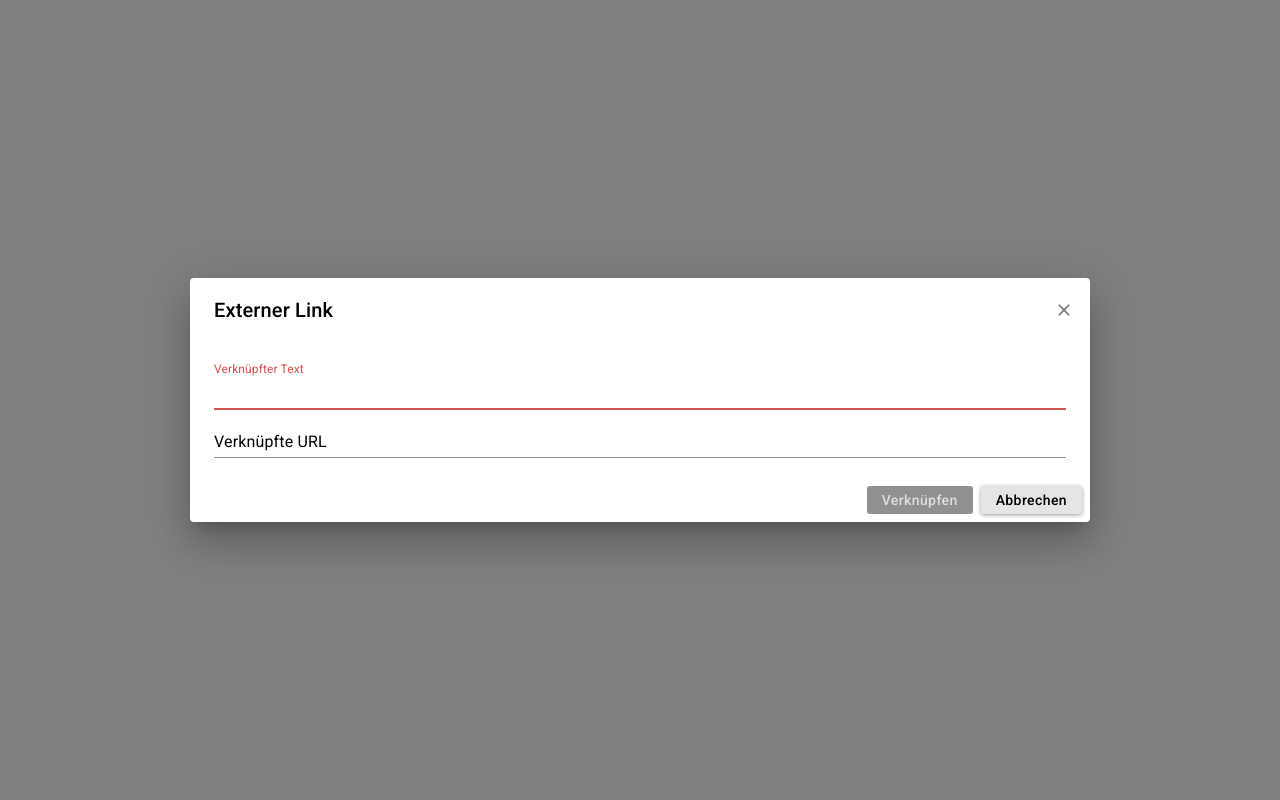
Scenario: ExternerLinkDialog › in edit mode › enables save button on filled out text fields
Type "Some text" into the field labelled "Verknüpfter Text". click: x=640, y=394
box: [214,378,1066,410]
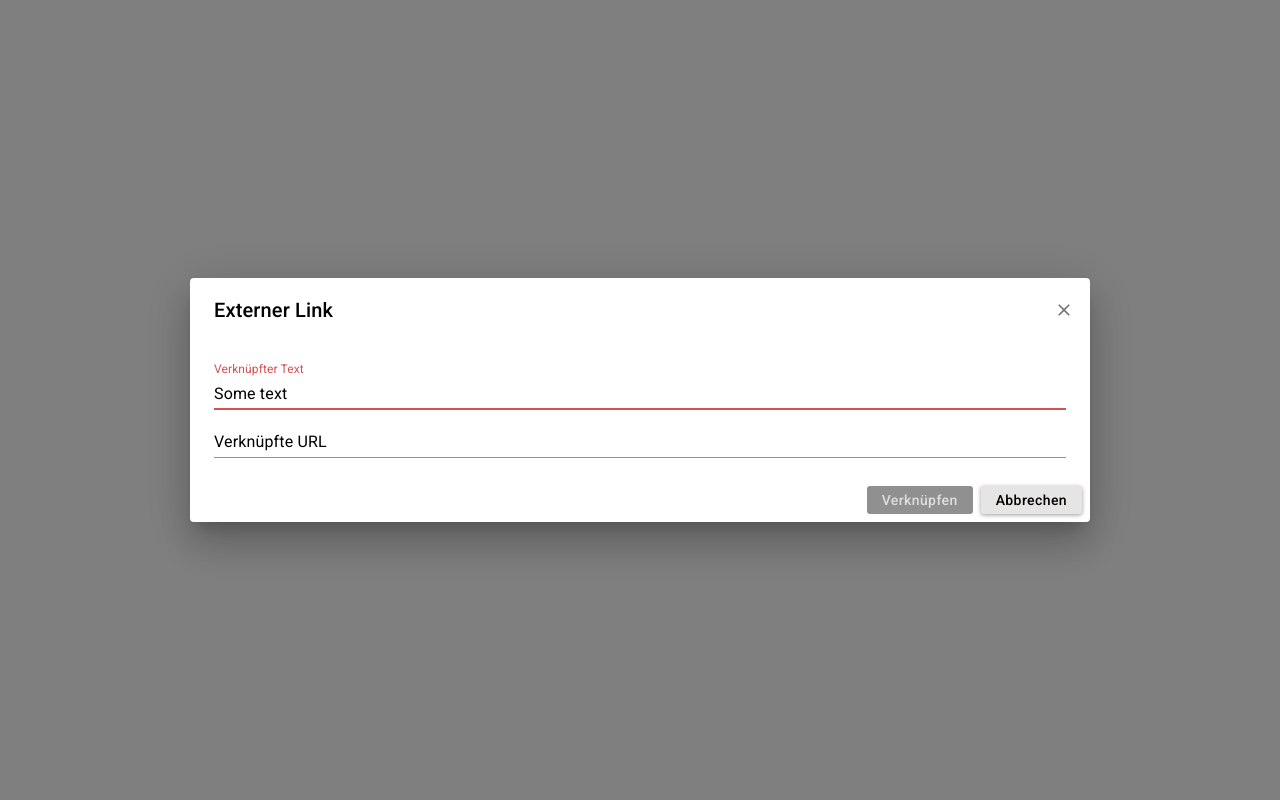
Type "https://some-url" into the field labelled "Verknüpfte URL". click: x=640, y=442
box: [214,426,1066,458]
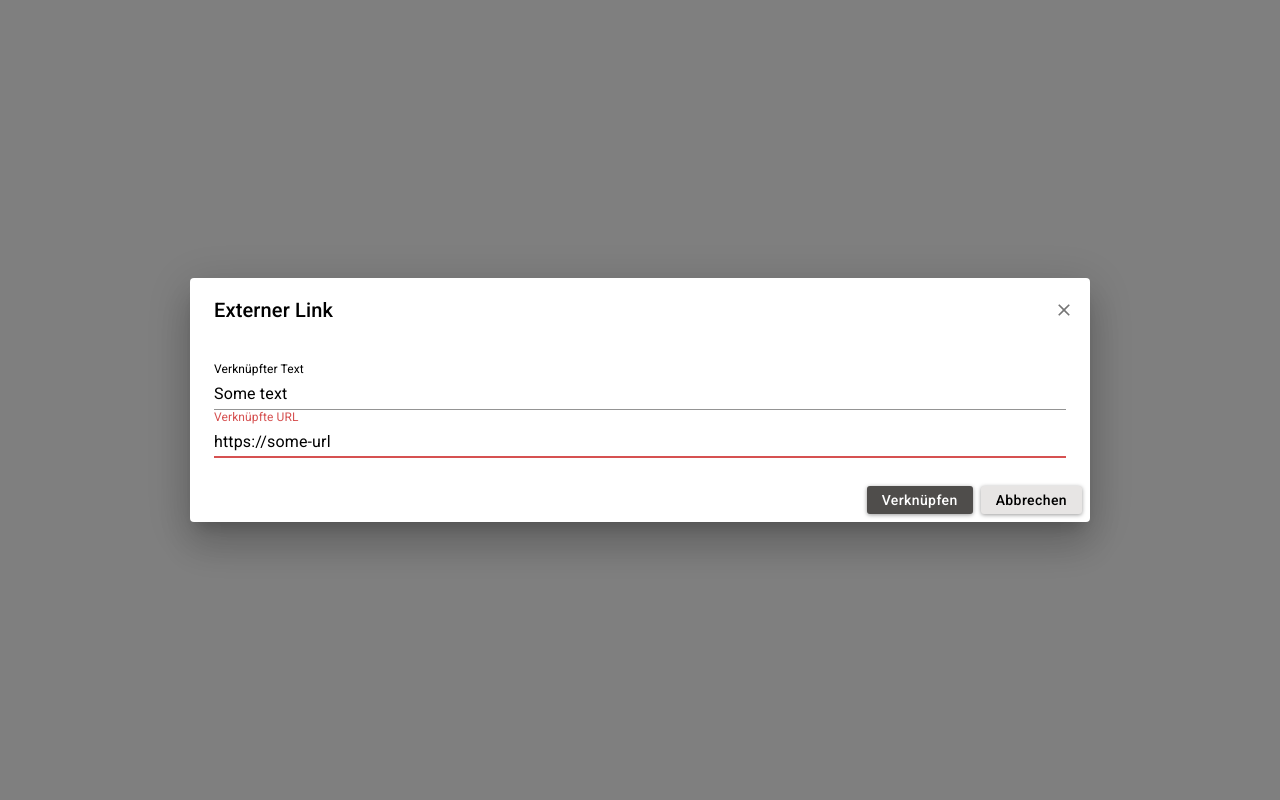
Expected: the button "Verknüpfen" is enabled, [867,486,973,514]
